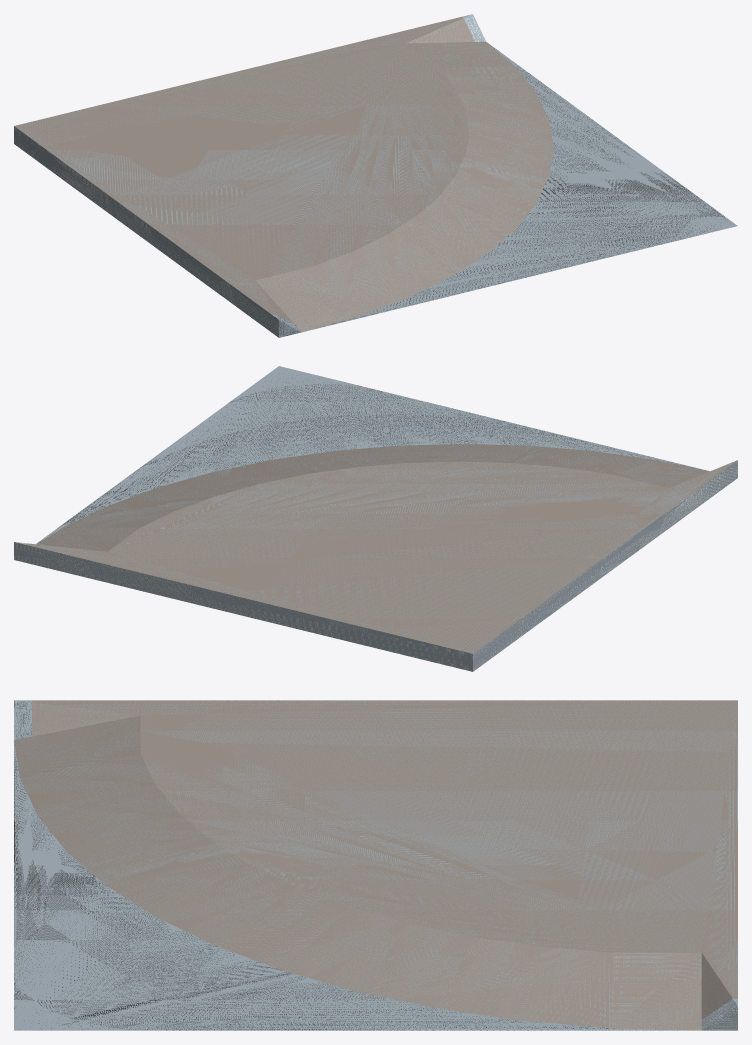
Rendered from curb_corner_crossing.fbx.
3 renders of one model, top to bottom at view 1: azimuth 30°, elevation 25°; view 2: azimuth 150°, elevation 25°; view 3: azimuth 270°, elevation 25°, orthographic. The views are drawn at different scales.
Visible parts, largest first — view 1: Group1; view 2: Group1; view 3: Group1.
Part boxes in pixels (x1,y1,x2,y2): Group1: (14, 14, 737, 337); Group1: (14, 366, 737, 671); Group1: (14, 700, 737, 1030).
Size of the model in its own units: 4 by 0.15 by 4.
